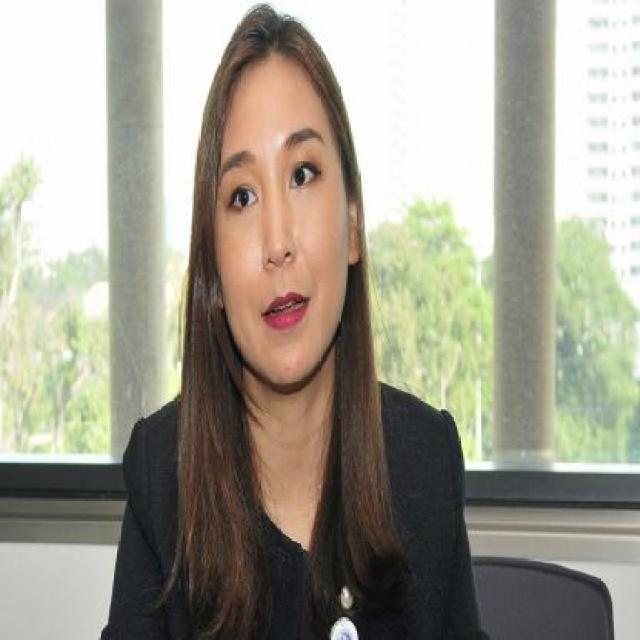sem_oculos: (162, 144, 390, 216)
